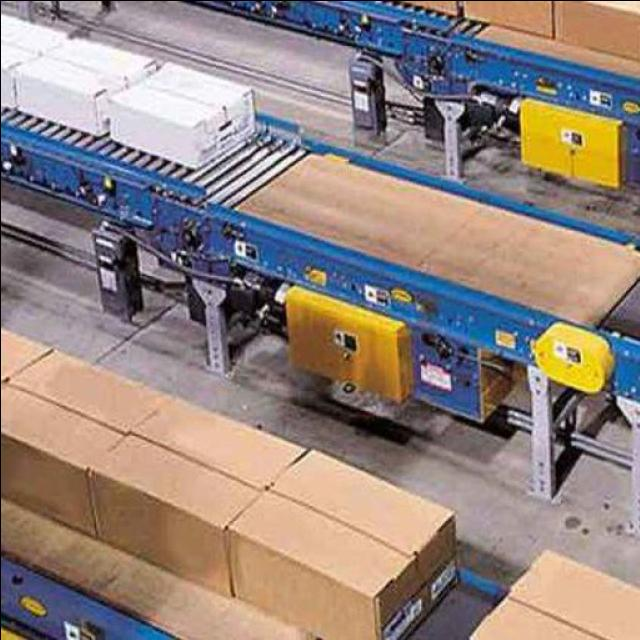conveyor: (1, 103, 640, 323)
